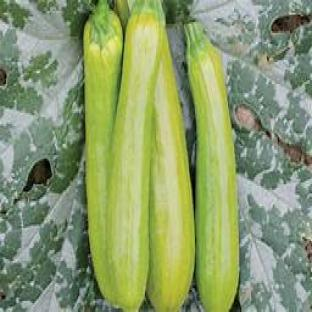Zucchini: (186, 22, 238, 311), (148, 33, 194, 311)
